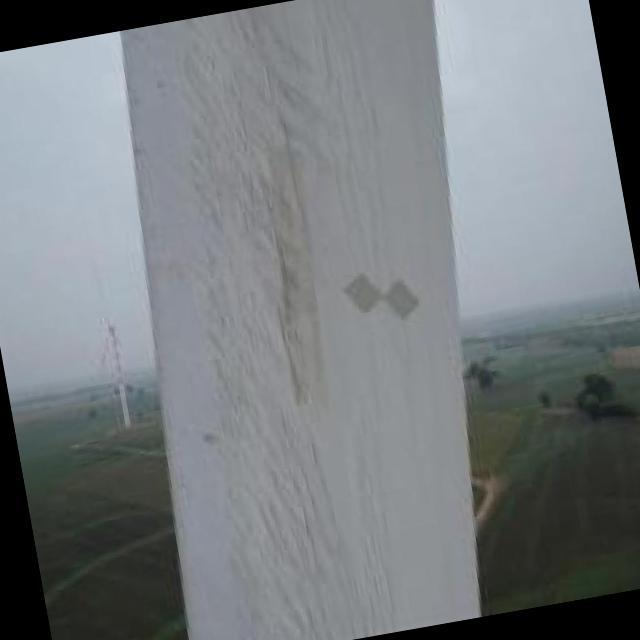Dirt: (178, 0, 404, 640)
